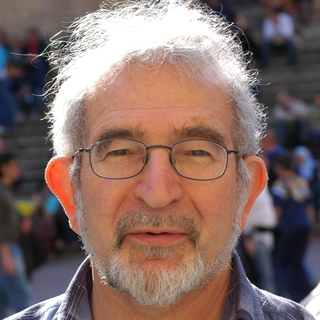eye: (100, 146, 139, 162), (181, 145, 215, 162)
